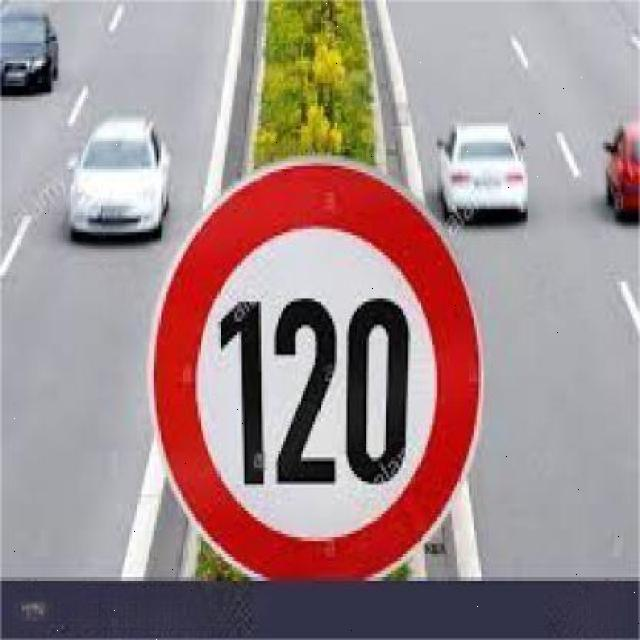speed limit 120: (150, 159, 484, 578)
